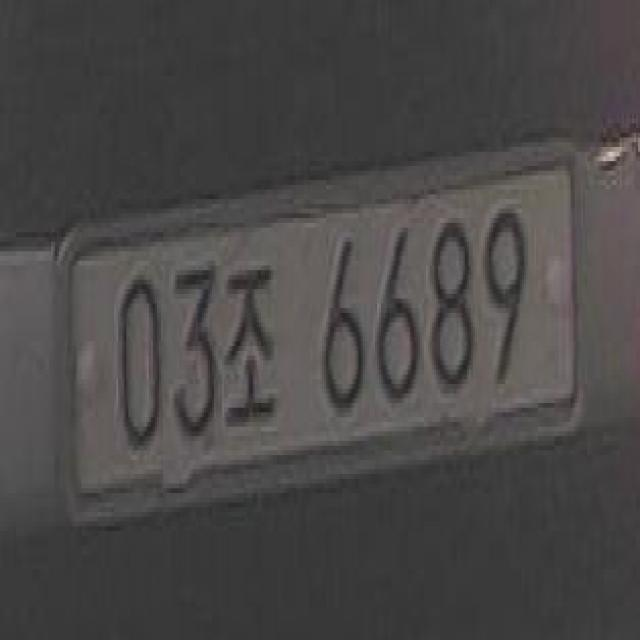illegal_plate: (71, 153, 578, 530)
